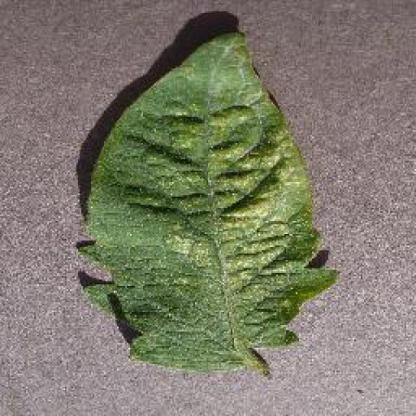Tomato_Spider_Mites: (81, 33, 341, 367)
